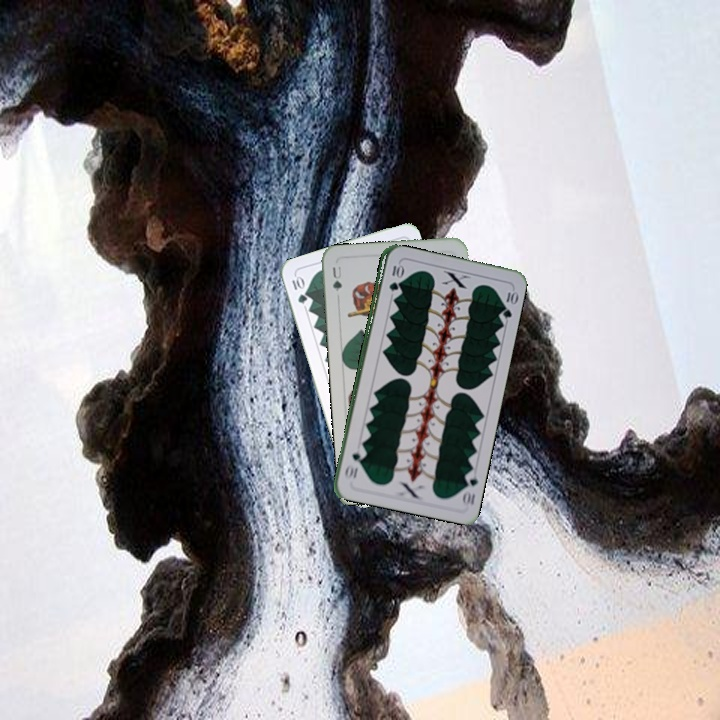G10: (458, 467, 480, 509), (288, 272, 310, 306), (385, 261, 403, 294)
GU: (328, 262, 345, 294)
